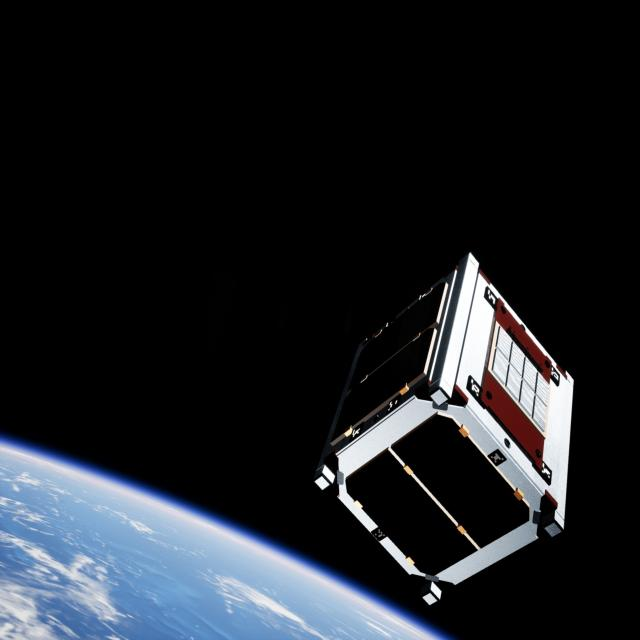satellite: (302, 259, 637, 608)
